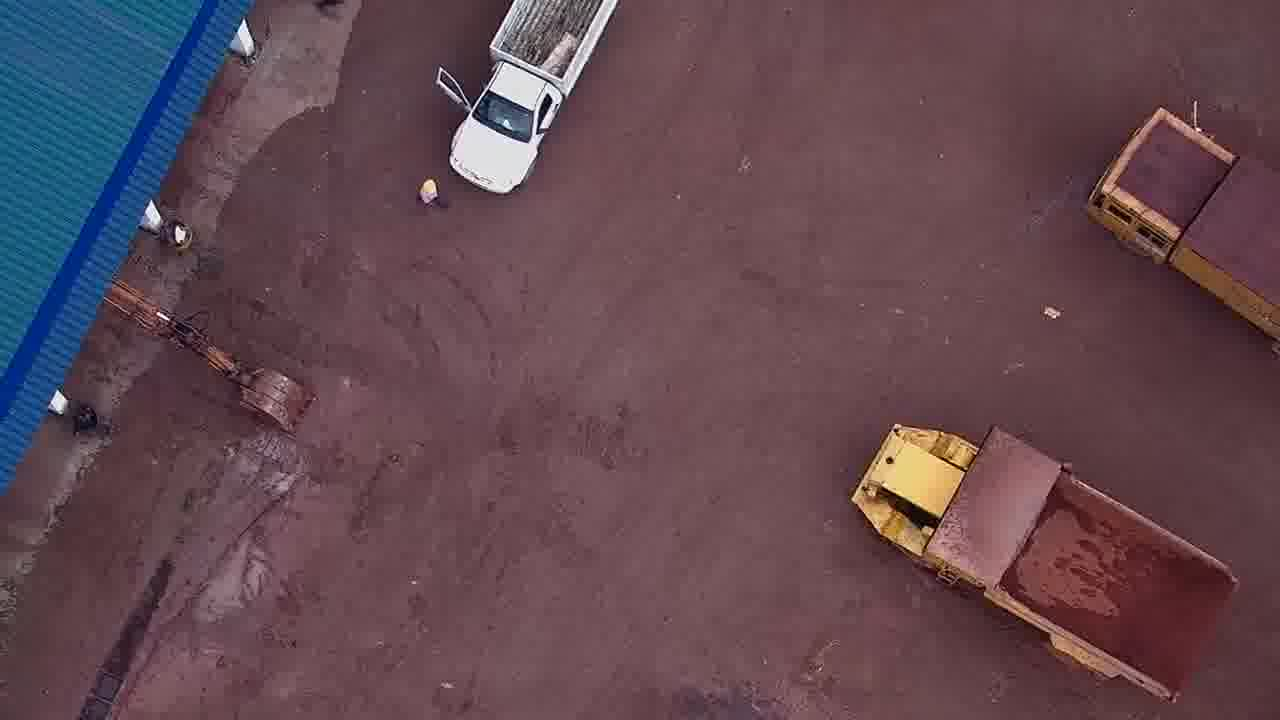heavy_motor_vehicle: (850, 422, 1241, 705)
light_motor_vehicle: (448, 1, 620, 197)
person: (413, 172, 442, 210)
